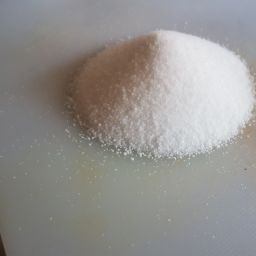Salt: (60, 22, 256, 168), (97, 57, 229, 137)
